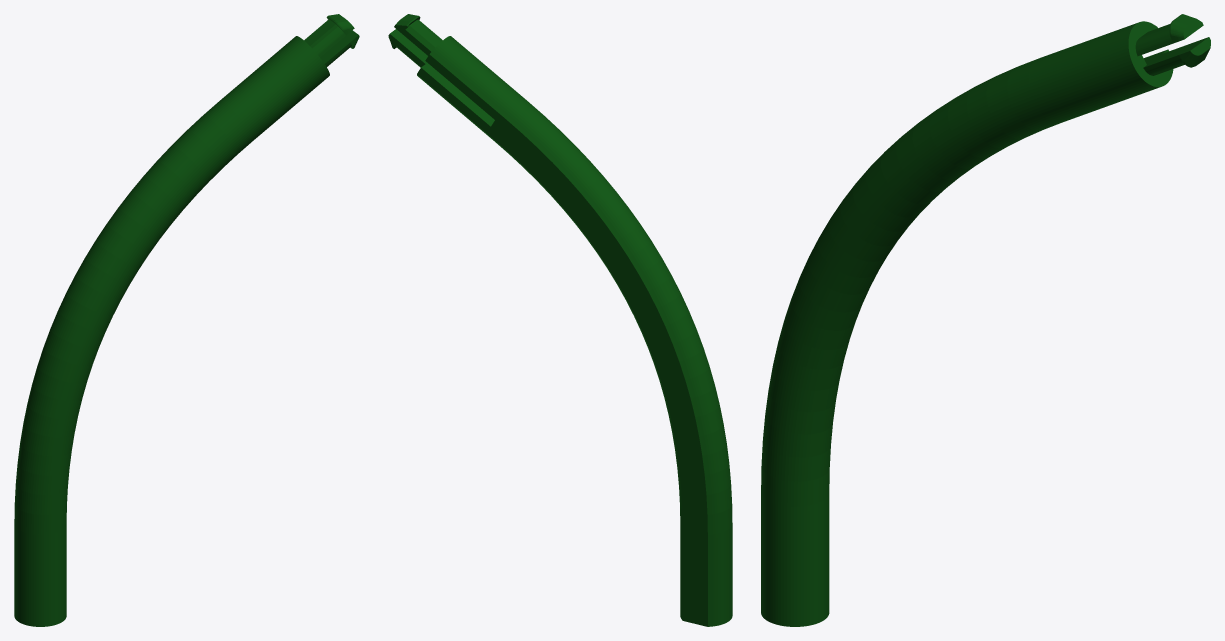
File: stem_3A_60_R.glb
3 views of the same model, side by side, from view 1: azimuth 30°, elevation 25°; view 2: azimuth 150°, elevation 25°; view 3: azimuth 330°, elevation 25° (orthographic). The views are drawn at different scales.
Visible parts, largest first — view 1: stem_3A_60_R; view 2: stem_3A_60_R; view 3: stem_3A_60_R.
Part boxes in pixels (<box>): stem_3A_60_R: <box>14,14,359,626</box>; stem_3A_60_R: <box>388,14,732,626</box>; stem_3A_60_R: <box>761,14,1210,626</box>.
Bounding box in the file's own units: 0.0535 × 0.0799 × 0.00666.
